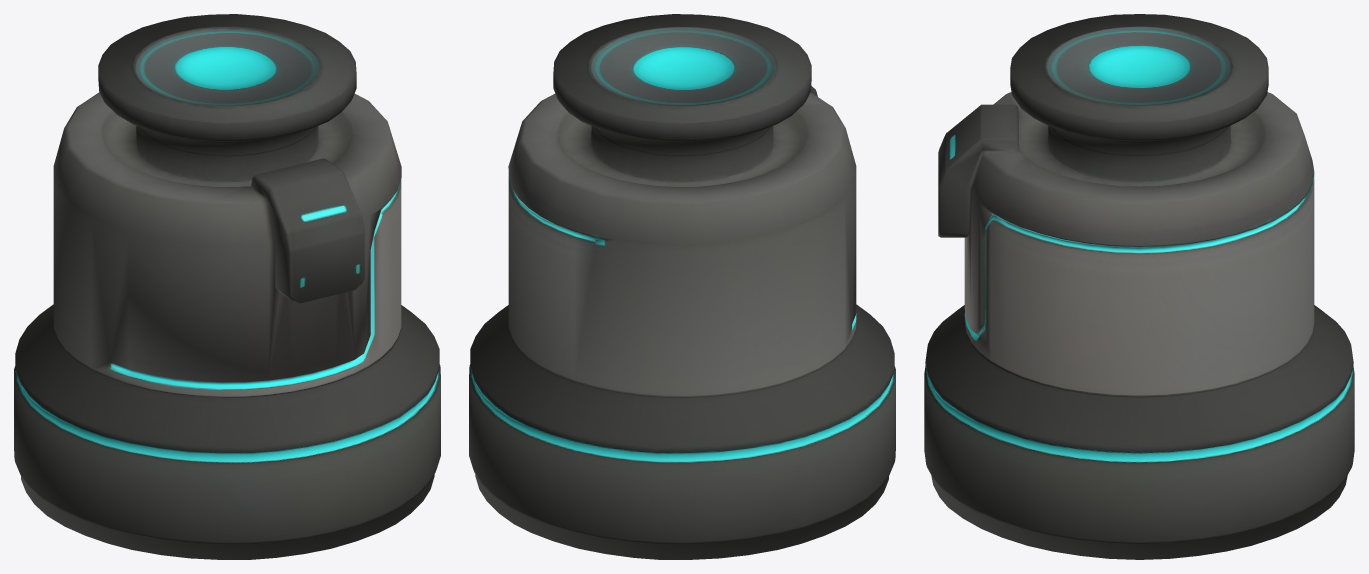
File: bridge_holo_projector.optimized.glb
3 renders of one model, left to right at view 1: azimuth 30°, elevation 25°; view 2: azimuth 150°, elevation 25°; view 3: azimuth 270°, elevation 25°, orthographic.
Visible parts, largest first — view 1: tripo_node_b1659fa8-fc22-4939-9886-af859c31a55c; view 2: tripo_node_b1659fa8-fc22-4939-9886-af859c31a55c; view 3: tripo_node_b1659fa8-fc22-4939-9886-af859c31a55c.
Part boxes in pixels (x1,y1,x2,y2): tripo_node_b1659fa8-fc22-4939-9886-af859c31a55c: (14, 14, 440, 559); tripo_node_b1659fa8-fc22-4939-9886-af859c31a55c: (469, 14, 895, 559); tripo_node_b1659fa8-fc22-4939-9886-af859c31a55c: (924, 14, 1354, 559).
Size of the model in its own units: 30697 by 32079 by 30822.
1 material, 1 textured.
